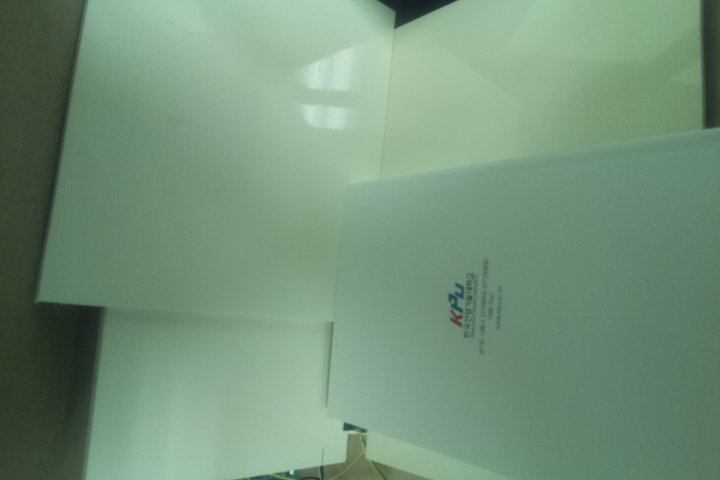book: (322, 125, 720, 480)
